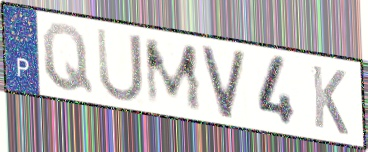4: (255, 52, 303, 132)
K: (309, 62, 350, 139)
M: (142, 38, 205, 114)
Q: (40, 21, 96, 97)
U: (94, 25, 146, 105)
V: (199, 43, 249, 122)
